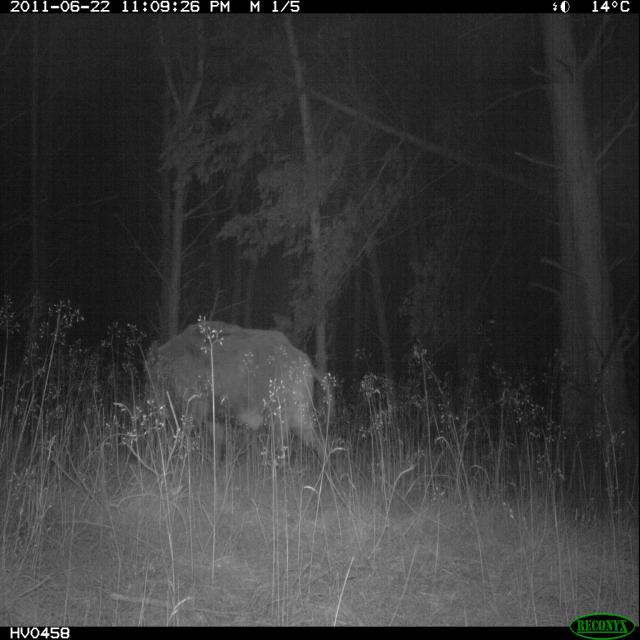boar: (118, 294, 363, 510)
